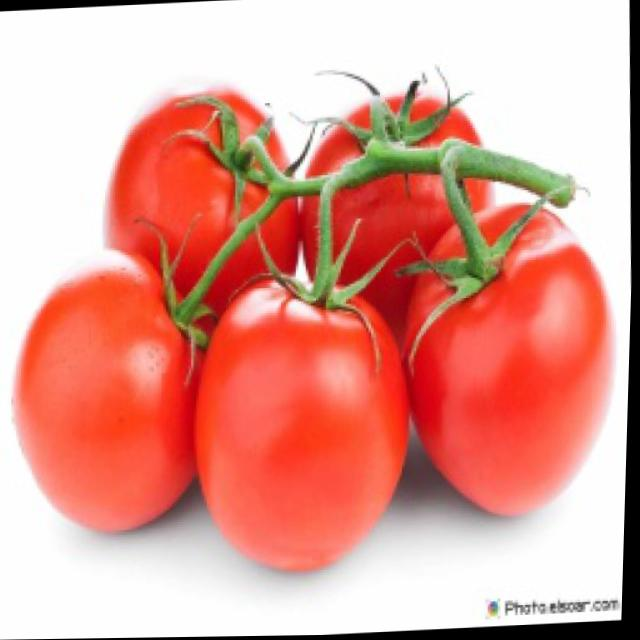tomato: (398, 198, 627, 519), (188, 277, 420, 582), (96, 87, 310, 349), (299, 84, 504, 355), (13, 272, 204, 537)
